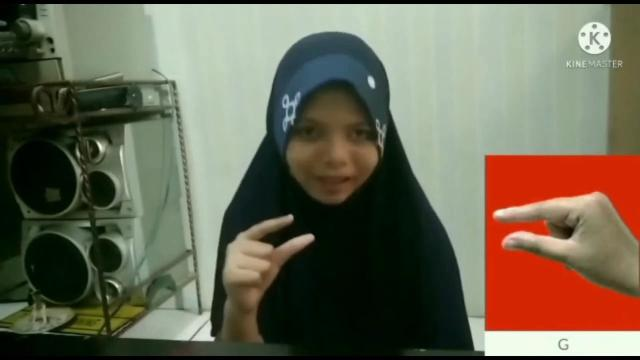G: (494, 190, 640, 296), (224, 212, 316, 306)
